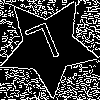L: (23, 21, 66, 74)
